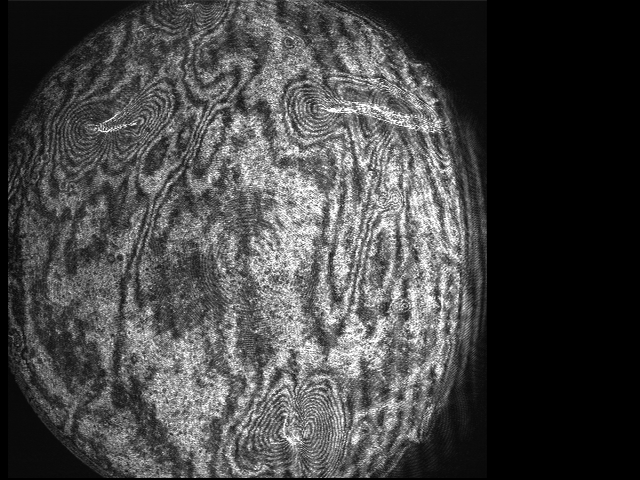plume: (234, 393, 343, 480), (63, 94, 177, 169), (142, 1, 236, 38)
